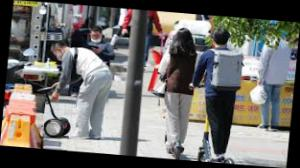nonhelmet: (183, 26, 250, 164), (149, 25, 202, 160)
